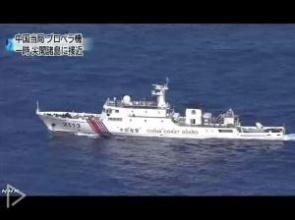warship: (26, 80, 294, 137)
